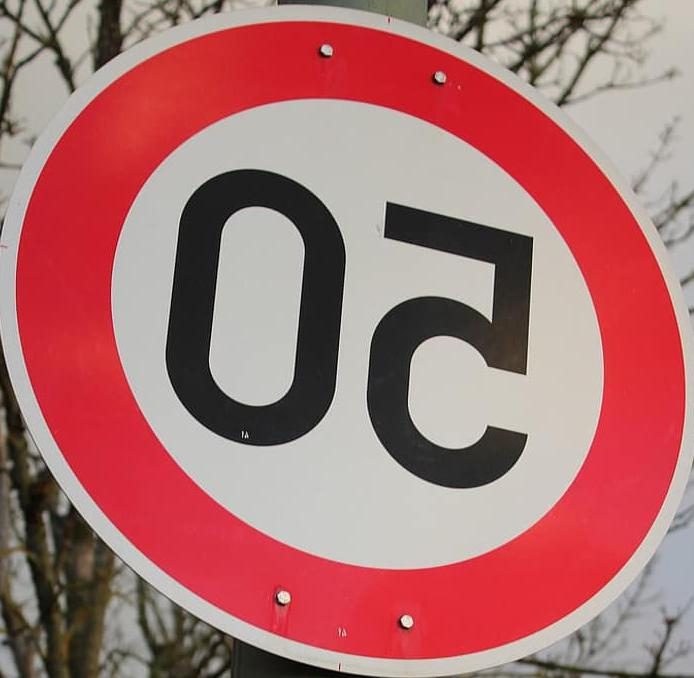Speed Limit -50-: (0, 1, 693, 677)
